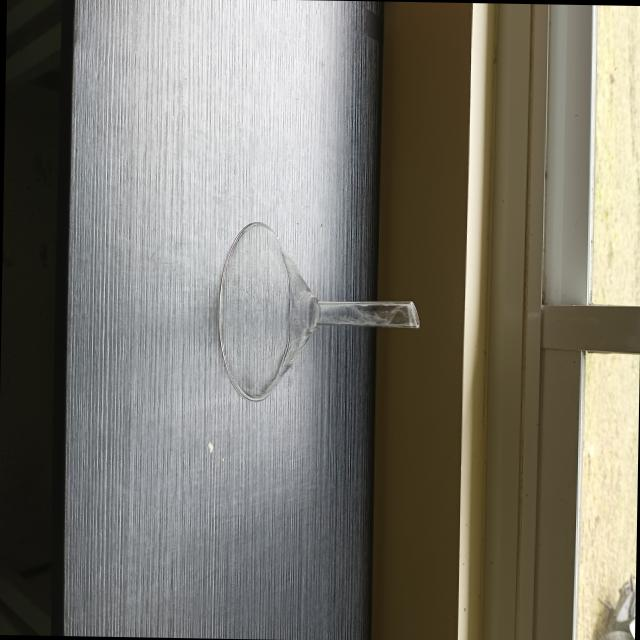funnel: (206, 201, 427, 421)
